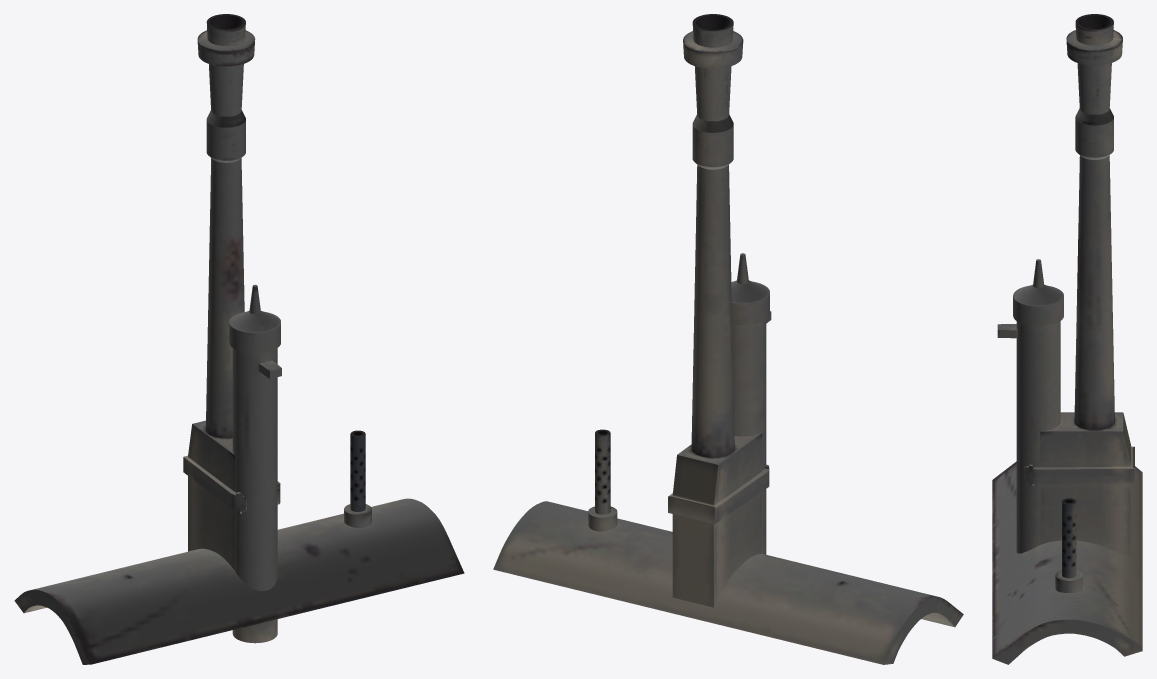
Rendered from Gun_07.glb.
The picture shows the model from 3 angles, left to right: view 1: azimuth 30°, elevation 25°; view 2: azimuth 150°, elevation 25°; view 3: azimuth 270°, elevation 25°; orthographic projection. The views are drawn at different scales.
Parts seen in each view (by area): view 1: set_0_group_0; view 2: set_0_group_0; view 3: set_0_group_0.
Part boxes in pixels (x1,y1,x2,y2): set_0_group_0: (14,14,464,664); set_0_group_0: (493,14,963,664); set_0_group_0: (992,14,1142,664).
Bounding box in the file's own units: 0.9283 × 1.4 × 0.3303.
Materials: 1 (1 with a texture image).
